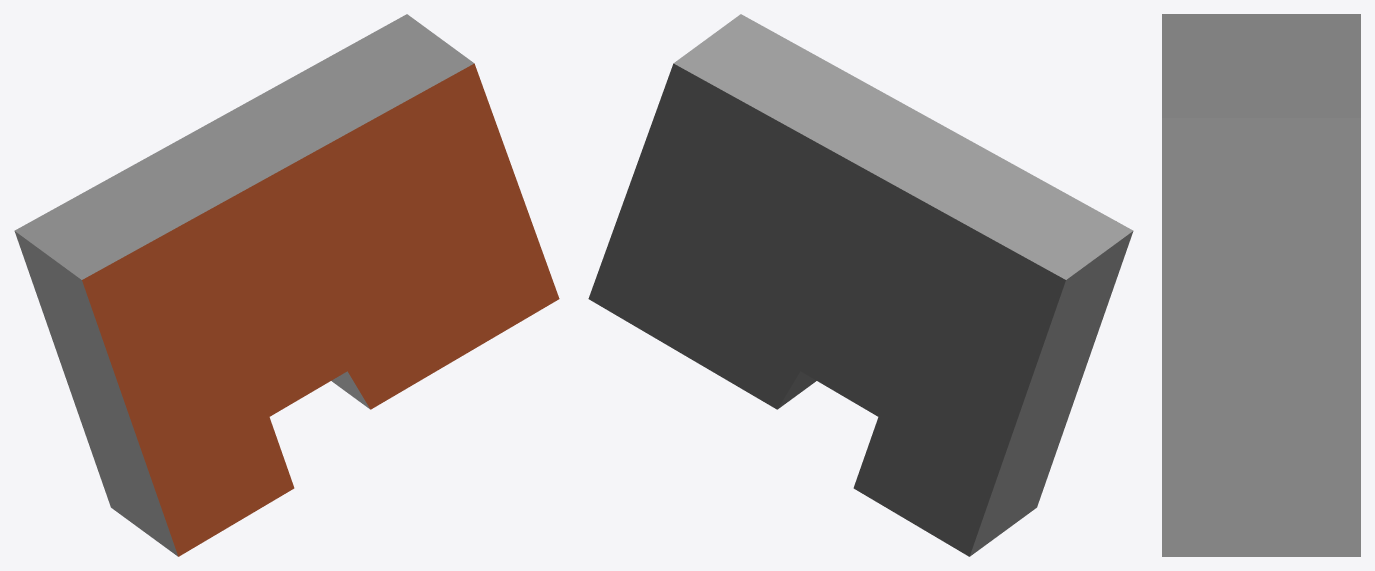
The model's file is construction_5367_assumed_A_Casa_h6m.obj.
The picture shows the model from 3 angles, left to right: view 1: azimuth 30°, elevation 25°; view 2: azimuth 150°, elevation 25°; view 3: azimuth 270°, elevation 25°; orthographic projection. The views are drawn at different scales.
Parts seen in each view (by area): view 1: construction_5367_assumed_A_Casa; view 2: construction_5367_assumed_A_Casa; view 3: construction_5367_assumed_A_Casa.
Boxes of the visible parts, bbox=[...] form: construction_5367_assumed_A_Casa: bbox=[14, 14, 559, 556]; construction_5367_assumed_A_Casa: bbox=[588, 14, 1133, 556]; construction_5367_assumed_A_Casa: bbox=[1162, 14, 1360, 556].
Size of the model in its own units: 24.52 by 20.67 by 6.
